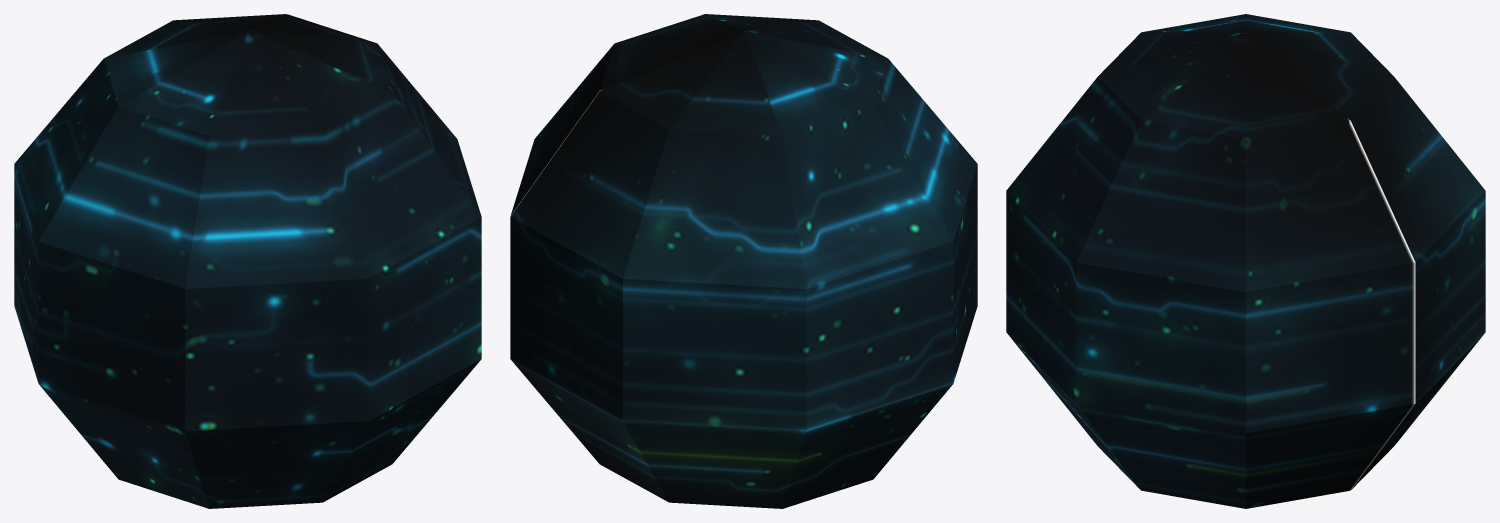
Rendered from massSpecEnv.fbx.
3 renders of one model, left to right at view 1: azimuth 30°, elevation 25°; view 2: azimuth 150°, elevation 25°; view 3: azimuth 270°, elevation 25°, orthographic.
Visible parts, largest first — view 1: MassSpecEnv; view 2: MassSpecEnv; view 3: MassSpecEnv.
Part boxes in pixels (x1=…): MassSpecEnv: x1=14, y1=14, x2=481, y2=508; MassSpecEnv: x1=510, y1=14, x2=977, y2=508; MassSpecEnv: x1=1006, y1=14, x2=1485, y2=508.
Bounding box in the file's own units: 0.4355 × 0.4579 × 0.4355.
1 material, 1 textured.
